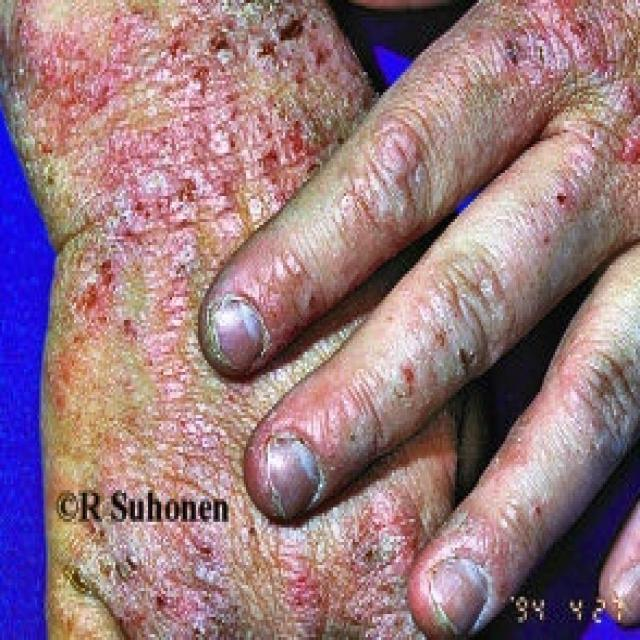Eczema: (25, 7, 640, 474)
